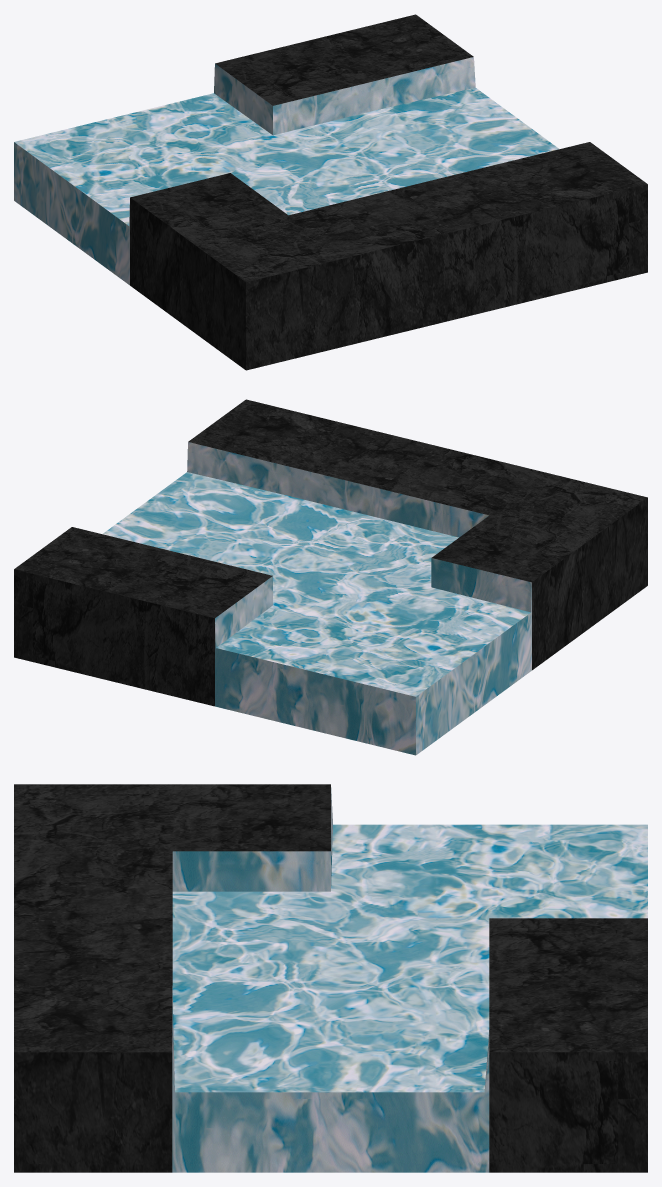
Rendered from AllyPath12.fbx.
The picture shows the model from 3 angles, top to bottom: view 1: azimuth 30°, elevation 25°; view 2: azimuth 150°, elevation 25°; view 3: azimuth 270°, elevation 25°; orthographic projection. The views are drawn at different scales.
Parts seen in each view (by area): view 1: AllyPath12; view 2: AllyPath12; view 3: AllyPath12.
Part boxes in pixels (x1,y1,x2,y2): AllyPath12: [14, 14, 647, 370]; AllyPath12: [14, 399, 647, 755]; AllyPath12: [14, 784, 647, 1172].
Bounding box in the file's own units: 100 × 20.97 × 100.
2 materials, 2 textured.
